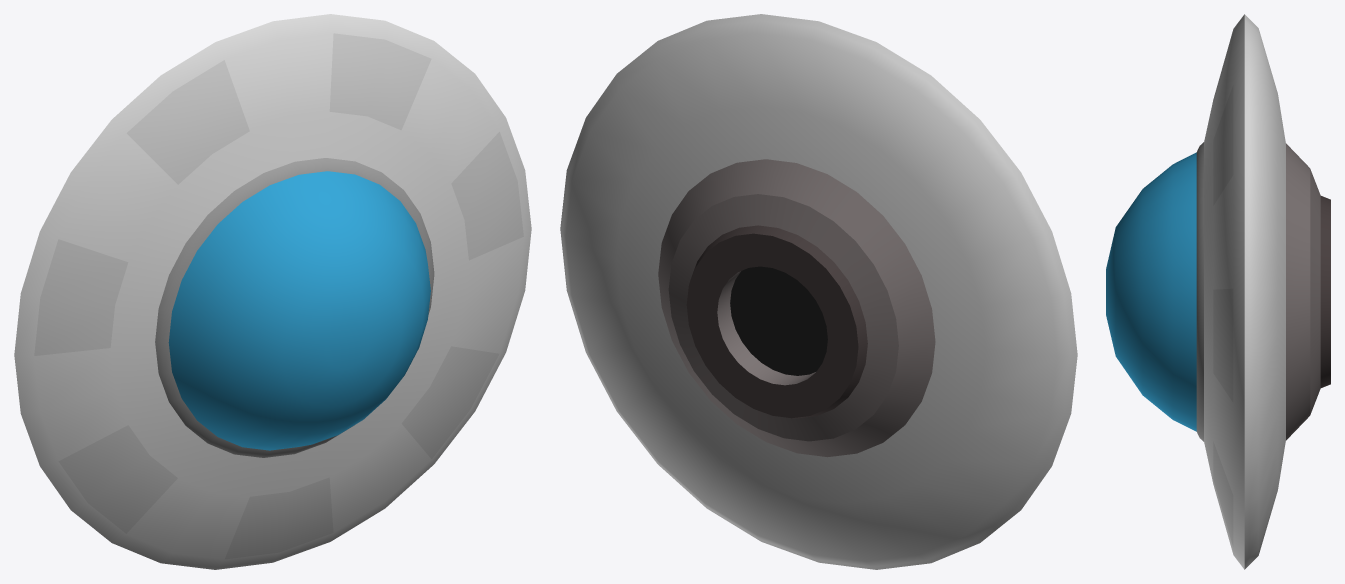
Rendered from Ufo1.fbx.
3 views of the same model, side by side, from view 1: azimuth 30°, elevation 25°; view 2: azimuth 150°, elevation 25°; view 3: azimuth 270°, elevation 25° (orthographic). The views are drawn at different scales.
Parts seen in each view (by area): view 1: Mesh-Ufo; view 2: Mesh-Ufo; view 3: Mesh-Ufo.
Boxes of the visible parts, x1=… form: Mesh-Ufo: x1=14, y1=14, x2=531, y2=569; Mesh-Ufo: x1=560, y1=14, x2=1077, y2=569; Mesh-Ufo: x1=1106, y1=14, x2=1330, y2=569.
Size of the model in its own units: 2.33 by 2.33 by 0.9421.
1 material, 1 textured.
